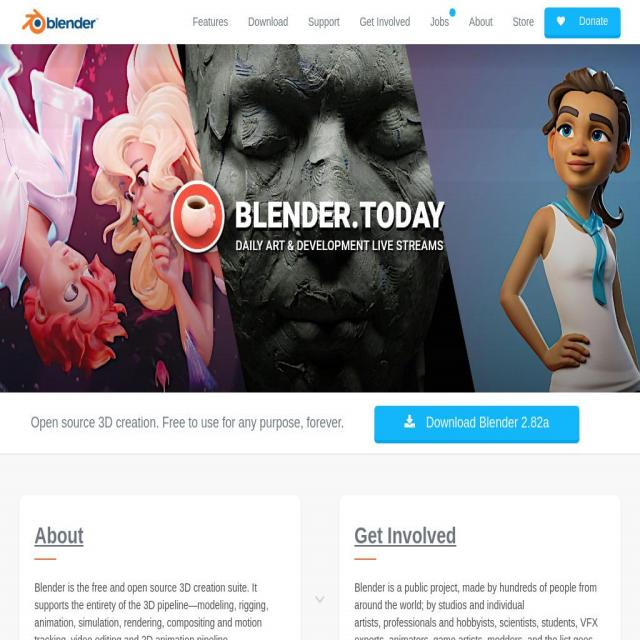download: (371, 398, 581, 447)
navigation-links: (184, 5, 634, 43)
